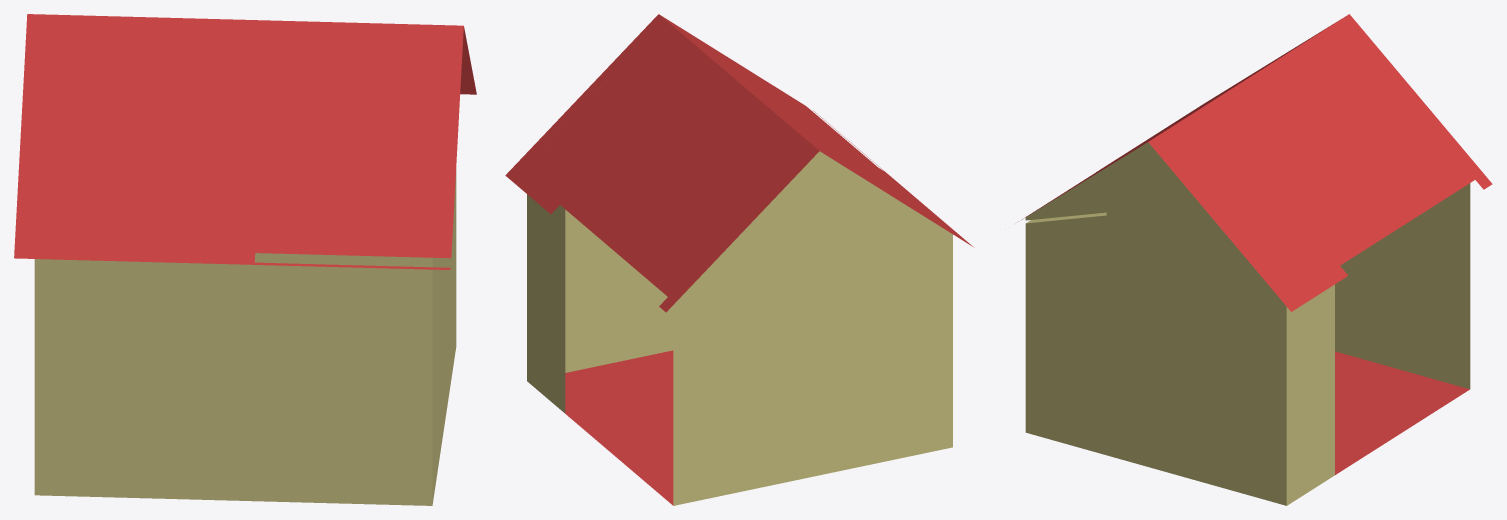
The picture shows the model from 3 angles, left to right: view 1: azimuth 30°, elevation 25°; view 2: azimuth 150°, elevation 25°; view 3: azimuth 270°, elevation 25°; orthographic projection. The views are drawn at different scales.
Size of the model in its own units: 15.26 by 15.11 by 11.35.
